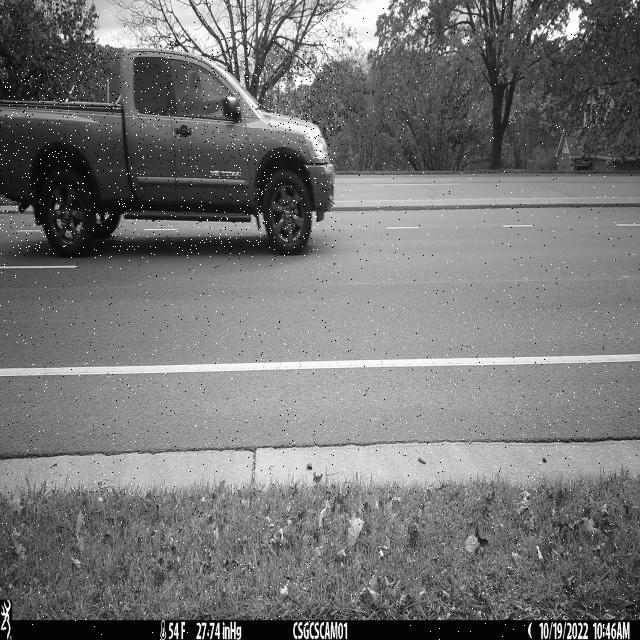Pickup: (0, 50, 336, 258)
